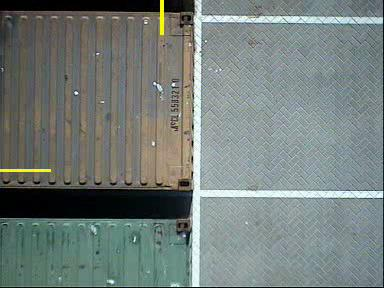groundmarker_2: (203, 90, 250, 155)
